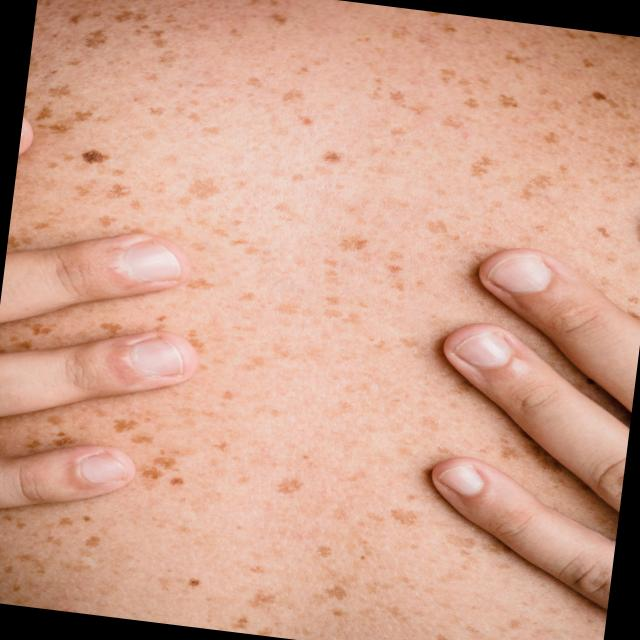Nail: (487, 254, 552, 292), (124, 240, 180, 281), (454, 332, 511, 368), (130, 338, 181, 376), (437, 464, 484, 496), (79, 453, 125, 484)
